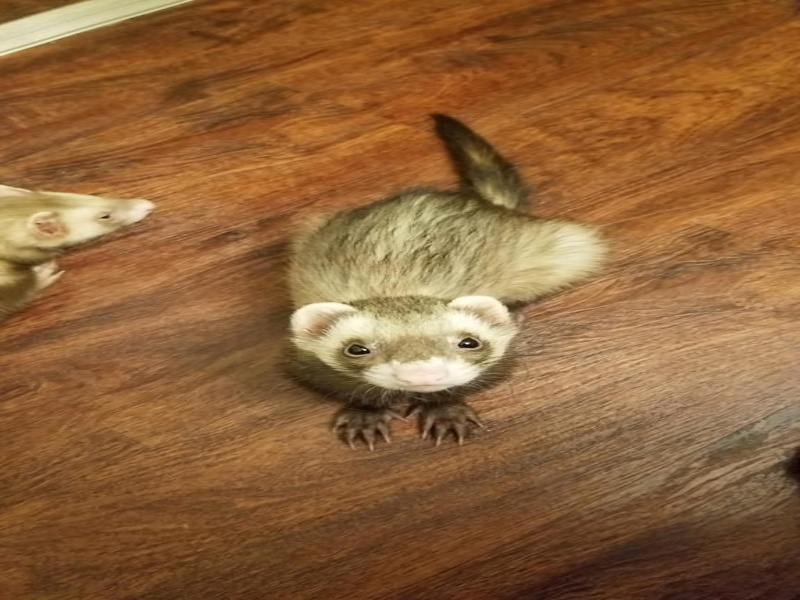minkish: (283, 126, 612, 456), (1, 171, 160, 305)
